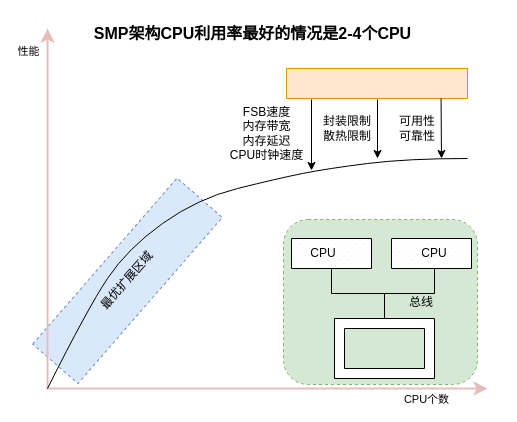
Image size: 517x422. Some labels were removed from this diagram. Each missing label, with the box of its shape:
内存: (334, 318, 434, 378)
扩展限制: (286, 68, 468, 98)
